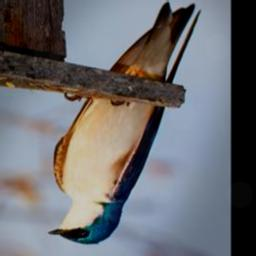Swallow: (46, 1, 202, 246)
